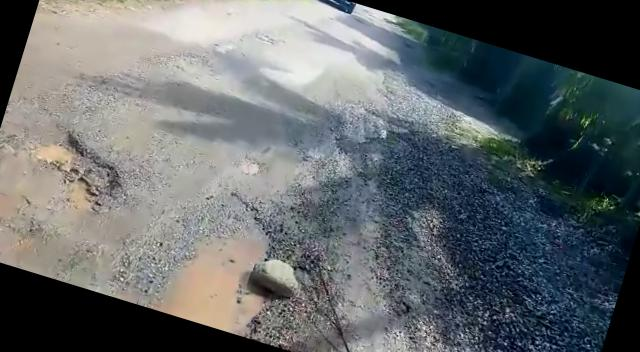pothole: (149, 206, 292, 342), (24, 124, 136, 222)
